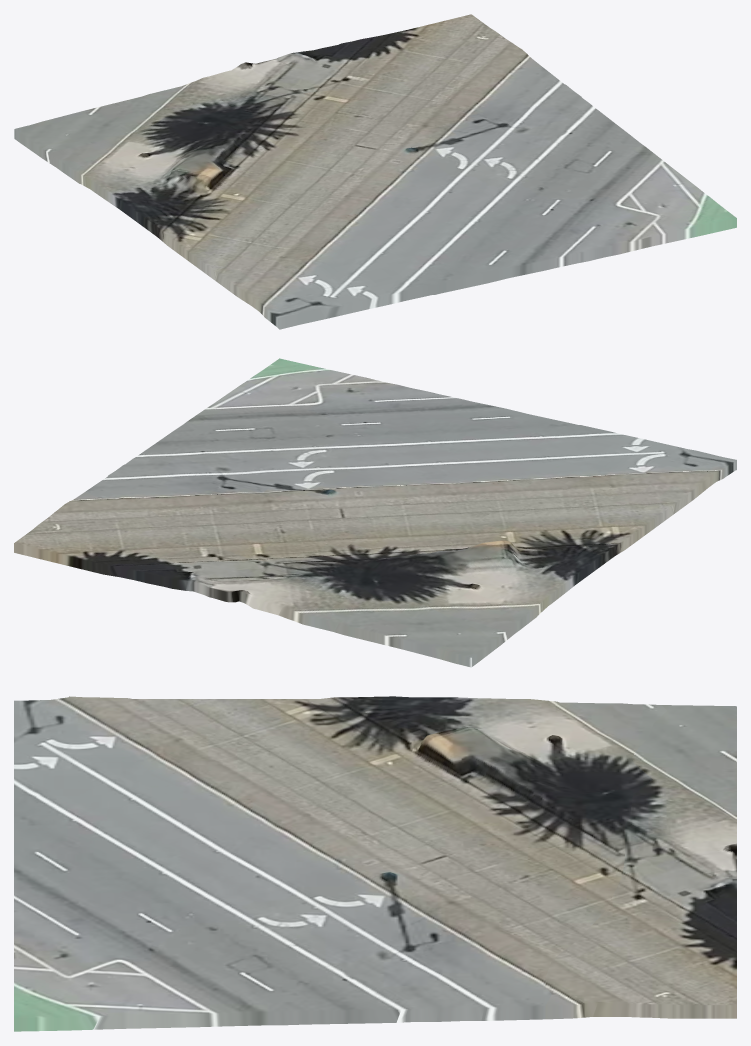
File: z20-167786-405217-h0-yup-uvflip-v3-world.glb
3 views of the same model, one above another, from view 1: azimuth 30°, elevation 25°; view 2: azimuth 150°, elevation 25°; view 3: azimuth 270°, elevation 25° (orthographic). The views are drawn at different scales.
Bounding box in the file's own units: 30.16 × 2 × 30.32.
1 material, 1 textured.
